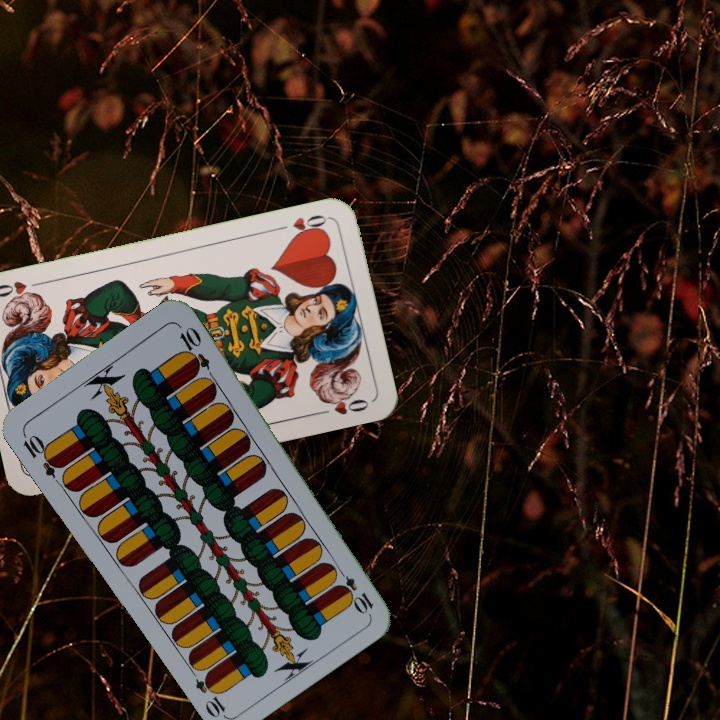E10: (18, 428, 66, 480), (331, 563, 376, 616)
HO: (272, 210, 331, 241)
